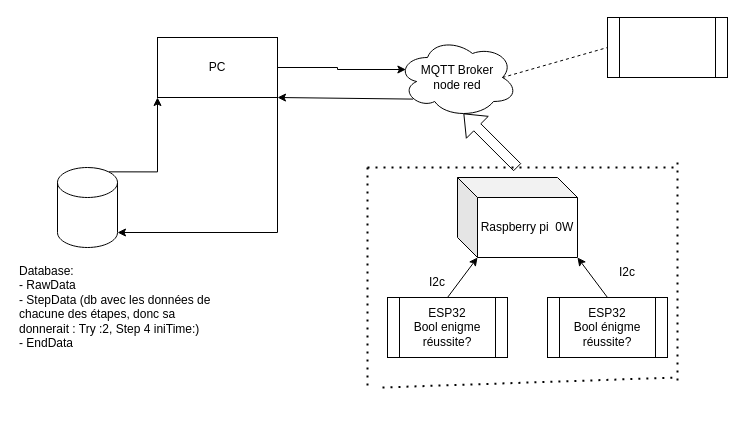
The diagram is 745 pixels wide and 425 high, and some of its shapes have lost their labels. Each missing label, with the centre of its shape:
"ESP32" belongs at (x=667, y=47).
"SQL DB" belongs at (x=87, y=207).
